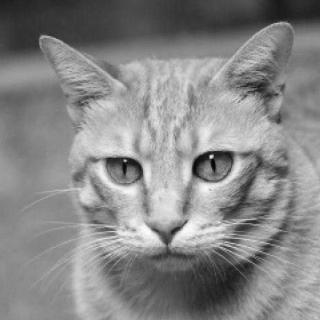cat: (36, 21, 302, 276)
nose: (138, 190, 194, 243)
